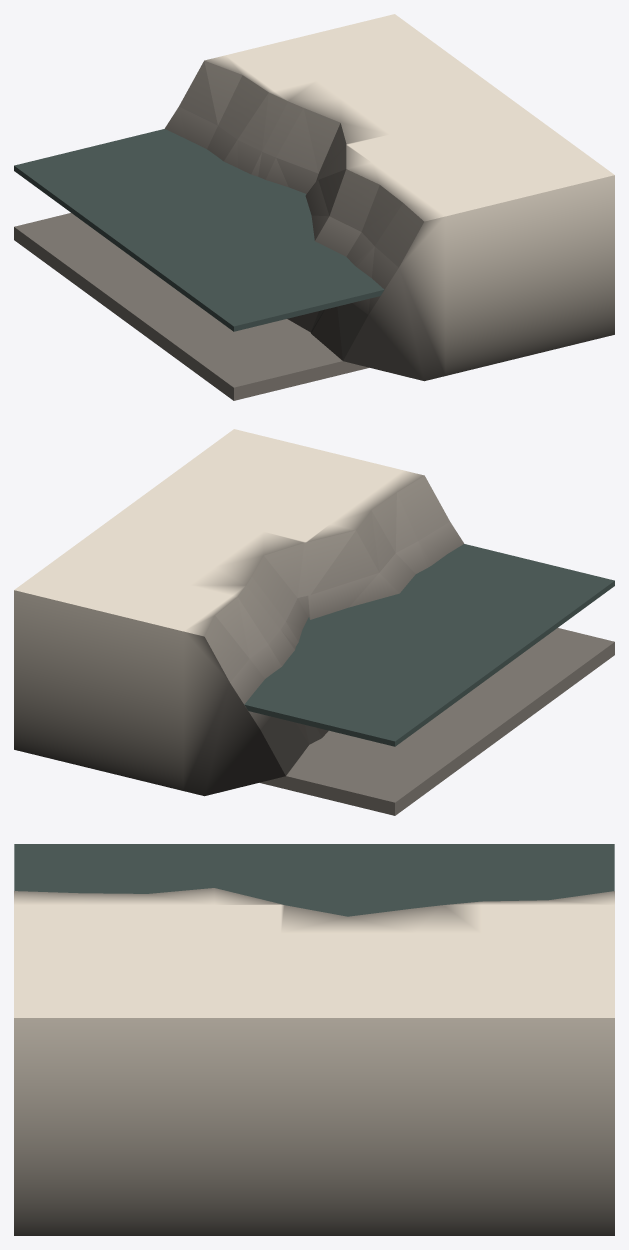
The model's file is SM_VKI_Ground_Stream_XOOX_Q00.fbx.
3 views of the same model, one above another, from view 1: azimuth 30°, elevation 25°; view 2: azimuth 150°, elevation 25°; view 3: azimuth 270°, elevation 25° (orthographic). The views are drawn at different scales.
Visible parts, largest first — view 1: SM_VKI_Ground_Stream_XOOX_Q00.001; view 2: SM_VKI_Ground_Stream_XOOX_Q00.001; view 3: SM_VKI_Ground_Stream_XOOX_Q00.001.
Part boxes in pixels (x1,y1,x2,y2): SM_VKI_Ground_Stream_XOOX_Q00.001: [14, 14, 614, 400]; SM_VKI_Ground_Stream_XOOX_Q00.001: [14, 429, 614, 815]; SM_VKI_Ground_Stream_XOOX_Q00.001: [14, 844, 614, 1235].
Size of the model in its own units: 1.5 by 0.6 by 1.5.
